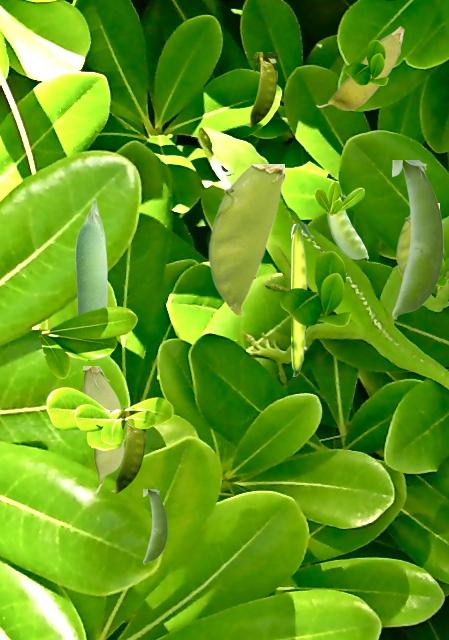pea: (208, 164, 283, 315), (392, 160, 442, 318), (316, 26, 403, 109), (83, 366, 123, 492), (75, 198, 106, 314), (291, 224, 313, 375), (110, 411, 144, 492), (327, 194, 367, 262), (245, 52, 276, 126), (143, 489, 166, 563), (396, 214, 409, 277)
